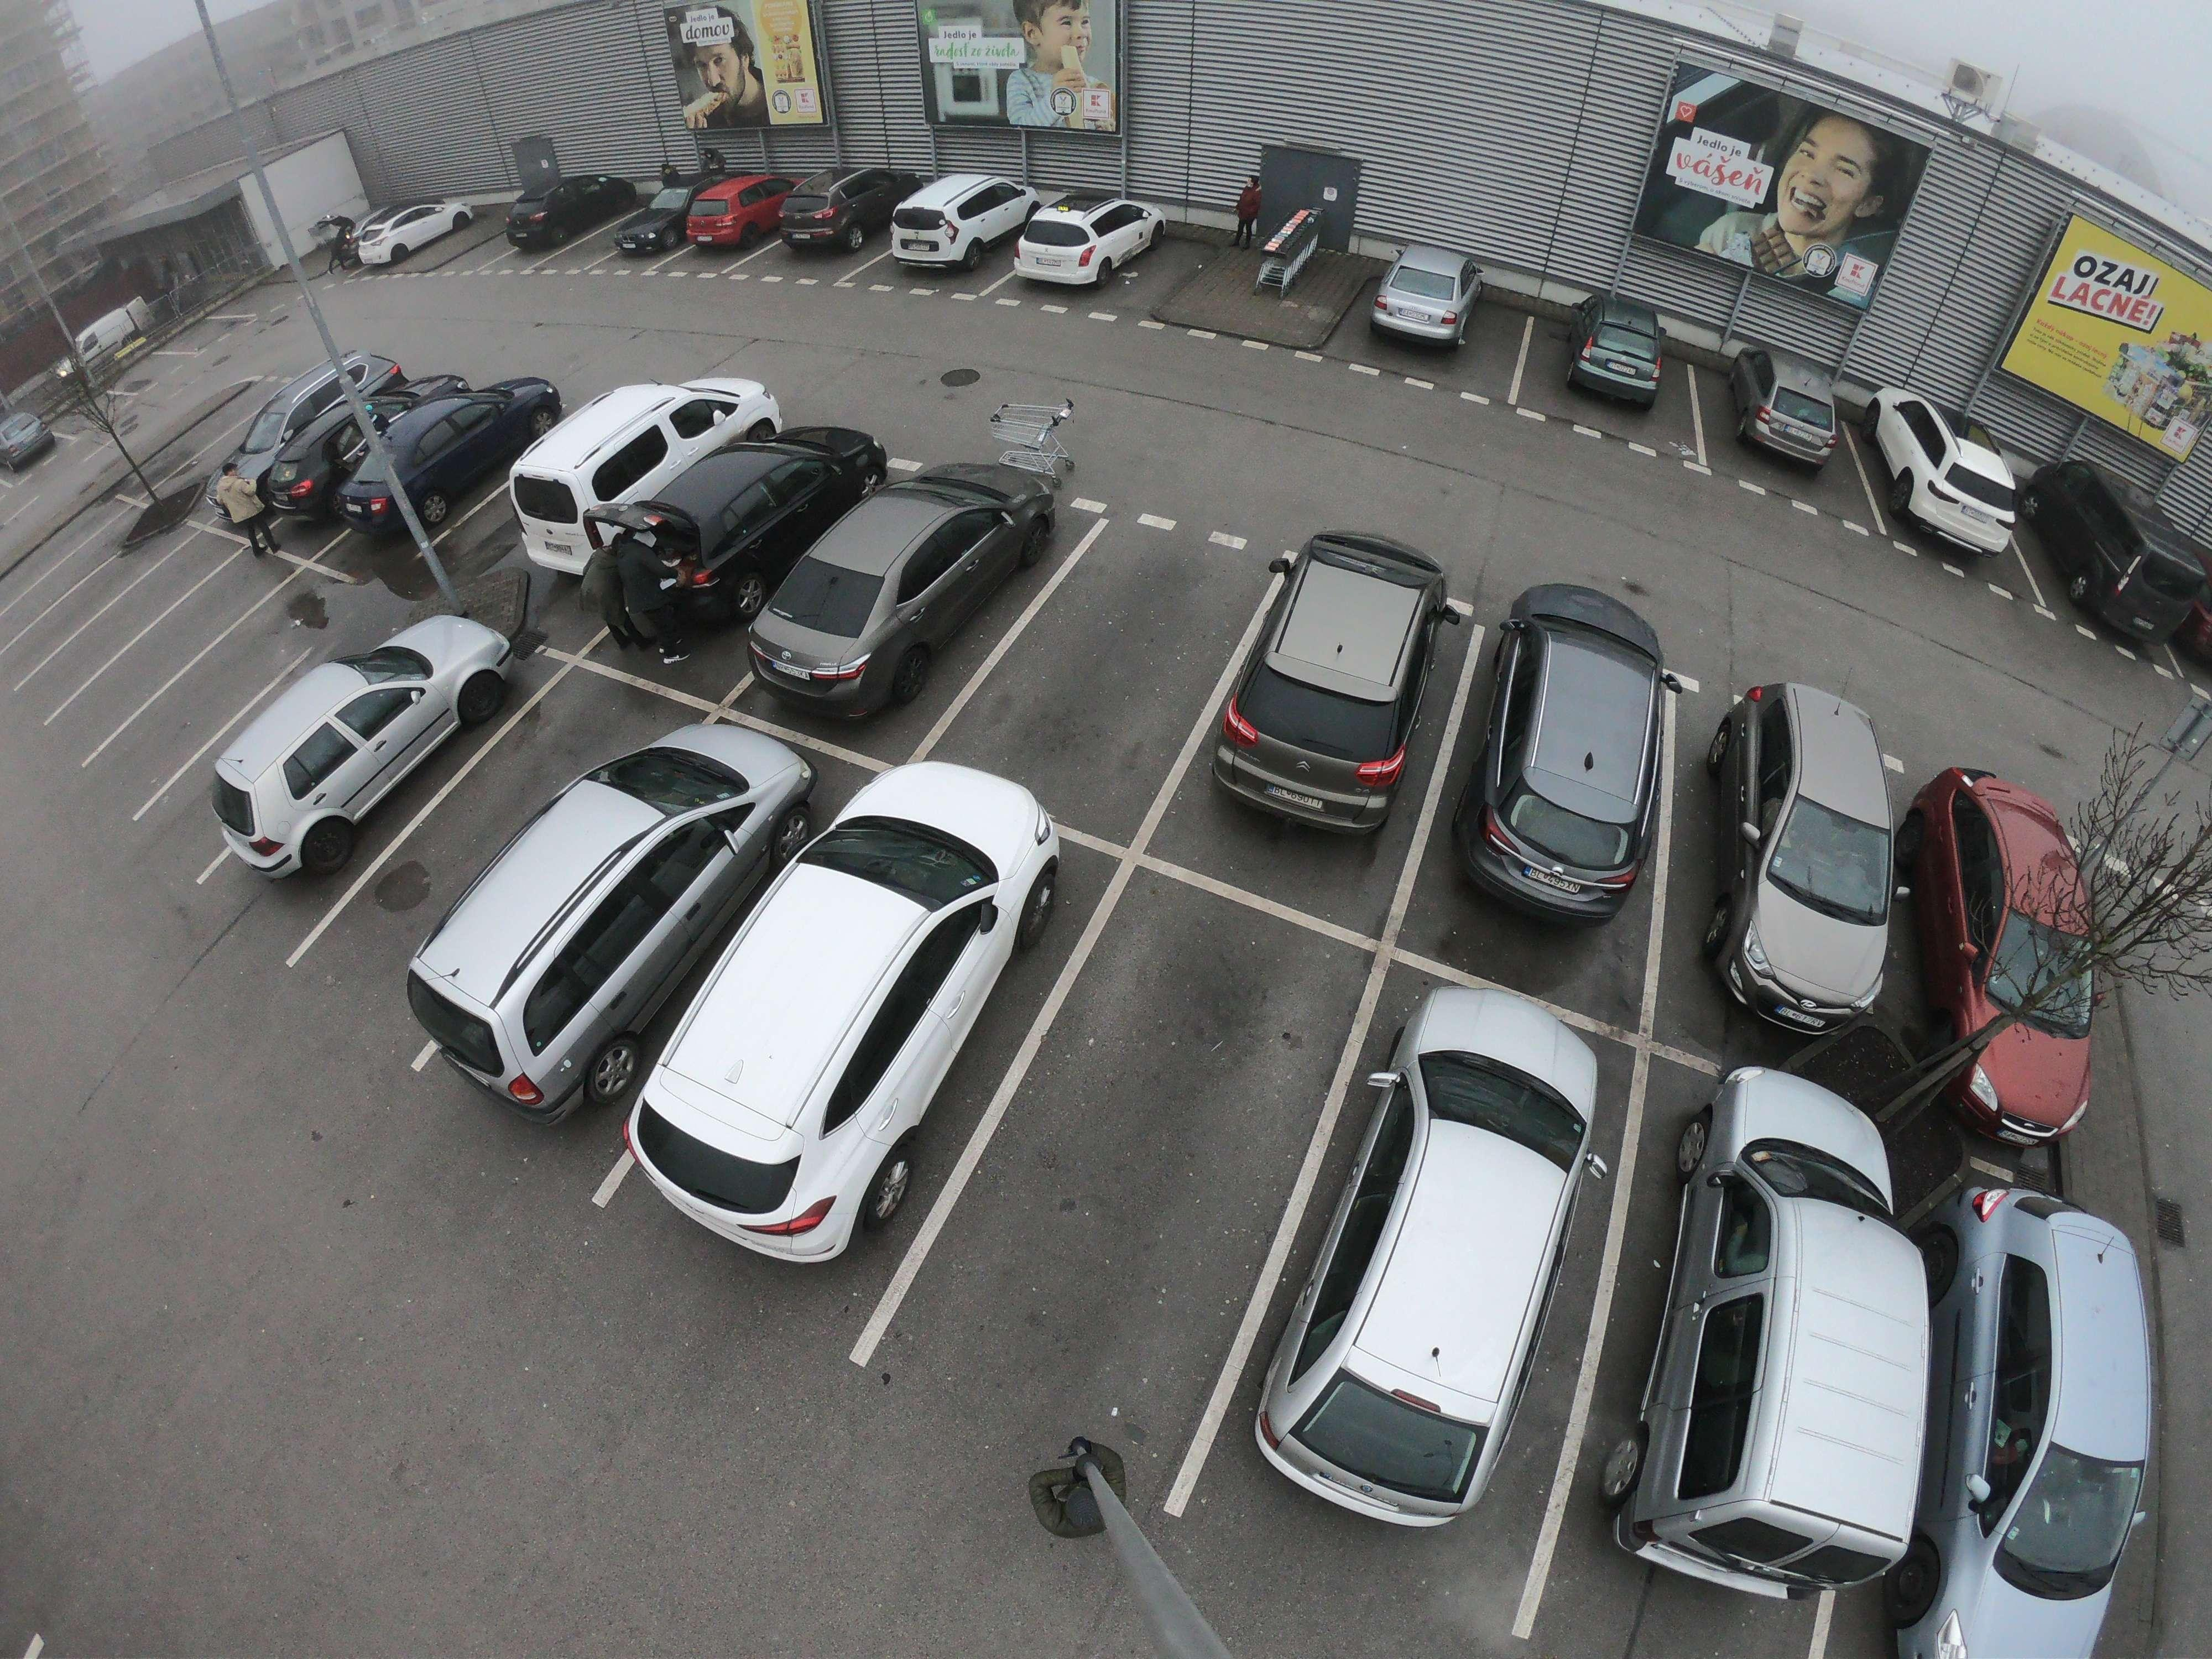empty: (627, 781, 1062, 1263), (1270, 957, 1615, 1525), (1625, 1077, 1951, 1600), (397, 732, 773, 1115), (1949, 1176, 2167, 1642), (1190, 519, 1463, 831), (1453, 580, 1693, 918), (1700, 669, 1921, 1032), (745, 464, 1050, 713), (1909, 762, 2088, 1138), (219, 631, 484, 875), (505, 371, 782, 570), (599, 423, 848, 629), (364, 373, 543, 552), (2040, 476, 2212, 650), (239, 361, 395, 523), (1871, 397, 2027, 554), (1724, 347, 1862, 472), (1014, 188, 1163, 303), (1353, 242, 1494, 361), (887, 171, 1029, 279), (1555, 296, 1684, 411), (784, 155, 911, 258), (505, 167, 632, 254), (348, 197, 479, 274), (685, 162, 794, 253), (617, 192, 697, 265), (0, 403, 64, 476)
occupied: (1003, 1019, 1282, 1310), (371, 774, 556, 913), (1042, 599, 1198, 713), (183, 659, 270, 730), (141, 626, 207, 674), (108, 603, 155, 633), (75, 584, 117, 612), (47, 566, 89, 594)
